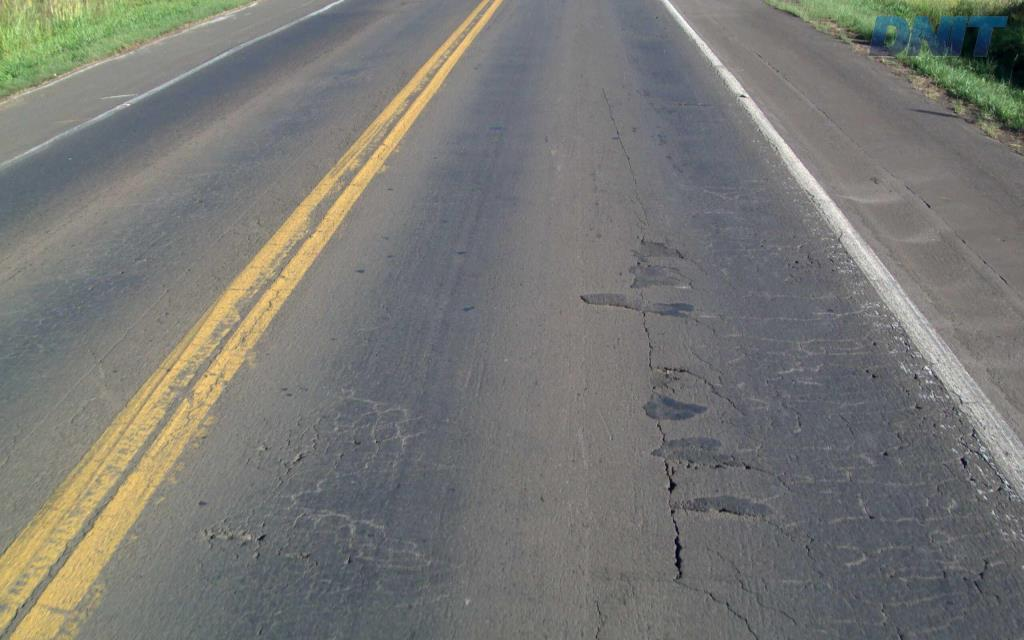crack: (668, 499, 683, 583)
